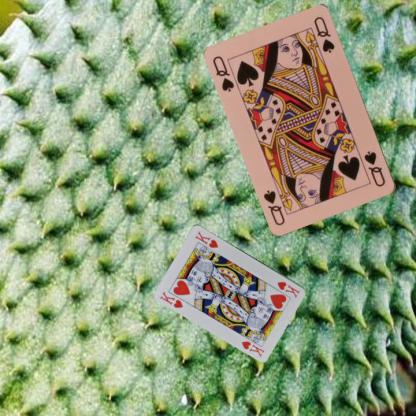Kh: (275, 278, 301, 300), (158, 289, 184, 309)
Qs: (210, 53, 236, 93), (362, 148, 387, 188)
